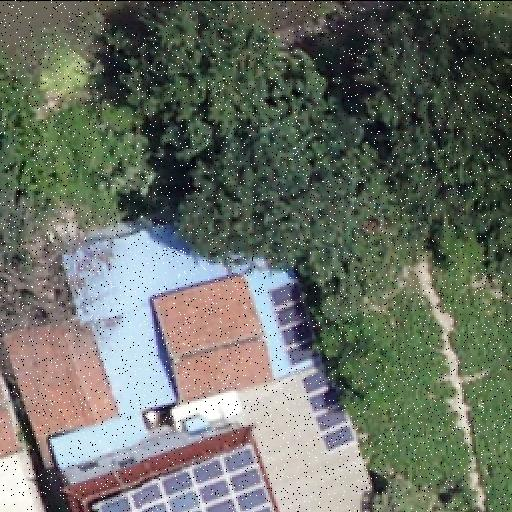solar-panel: (86, 435, 280, 512), (270, 268, 322, 372), (301, 364, 361, 450)
